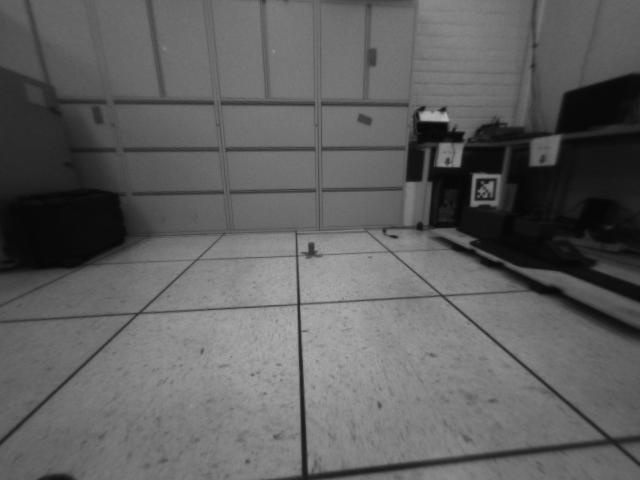X: (300, 241, 321, 258)
